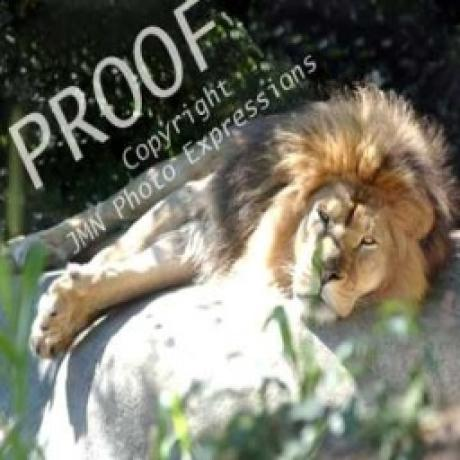Lion: (8, 85, 460, 357)
